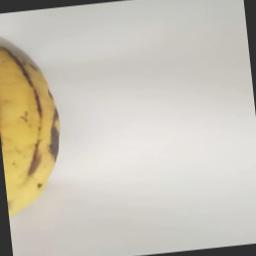Banana Unripe: (0, 27, 72, 214)
